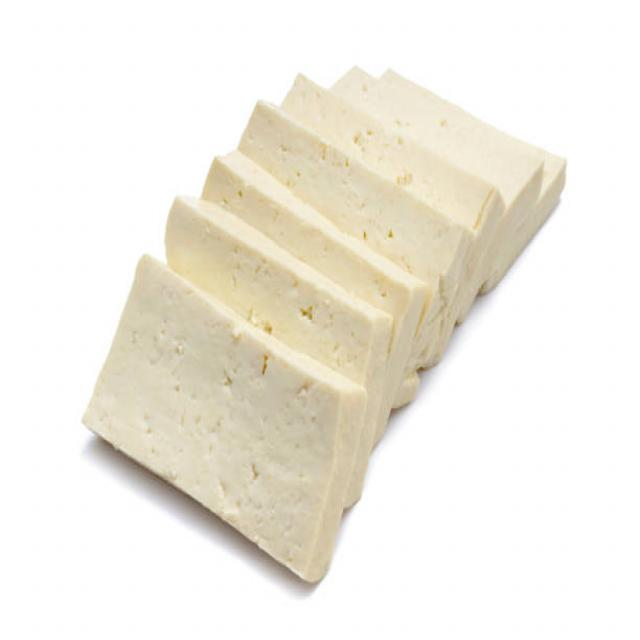Tofu Block: (83, 266, 365, 577), (292, 69, 534, 287)
